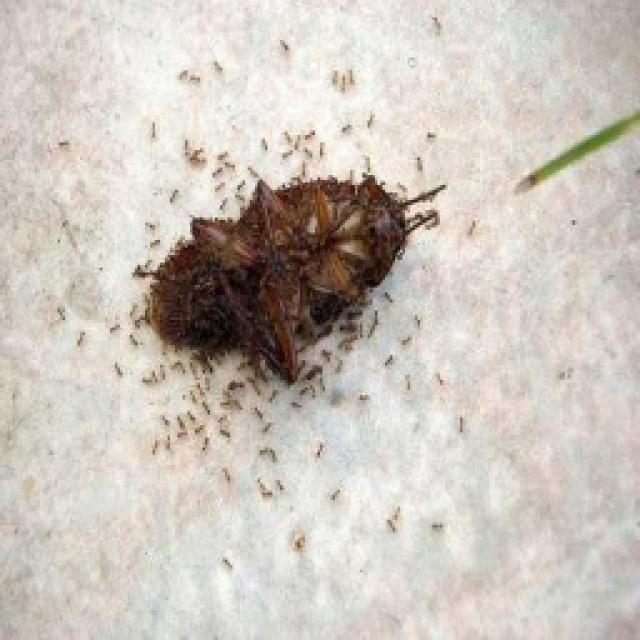cockroach: (133, 162, 449, 389)
